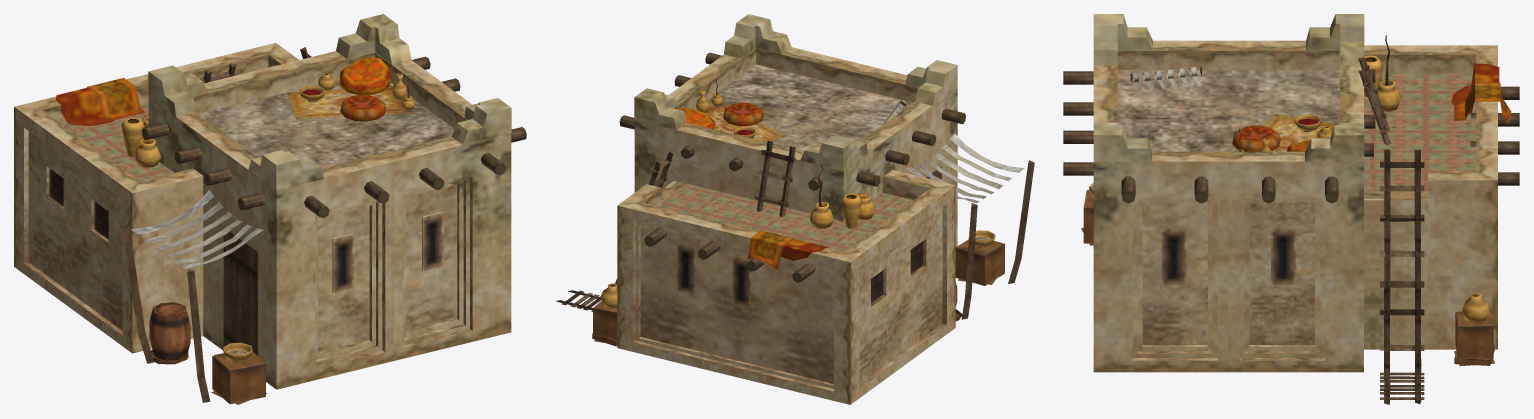
Rendered from build-house.glb.
3 views of the same model, side by side, from view 1: azimuth 30°, elevation 25°; view 2: azimuth 150°, elevation 25°; view 3: azimuth 270°, elevation 25° (orthographic). The views are drawn at different scales.
Size of the model in its own units: 0.44 by 0.2438 by 0.4255.
Materials: 1 (1 with a texture image).
